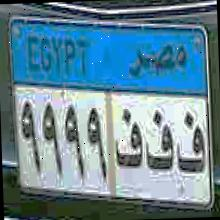9: (82, 102, 107, 181), (19, 98, 42, 180), (40, 100, 62, 181), (63, 101, 84, 182)
faa: (173, 105, 207, 182), (110, 102, 144, 176), (142, 108, 174, 180)
